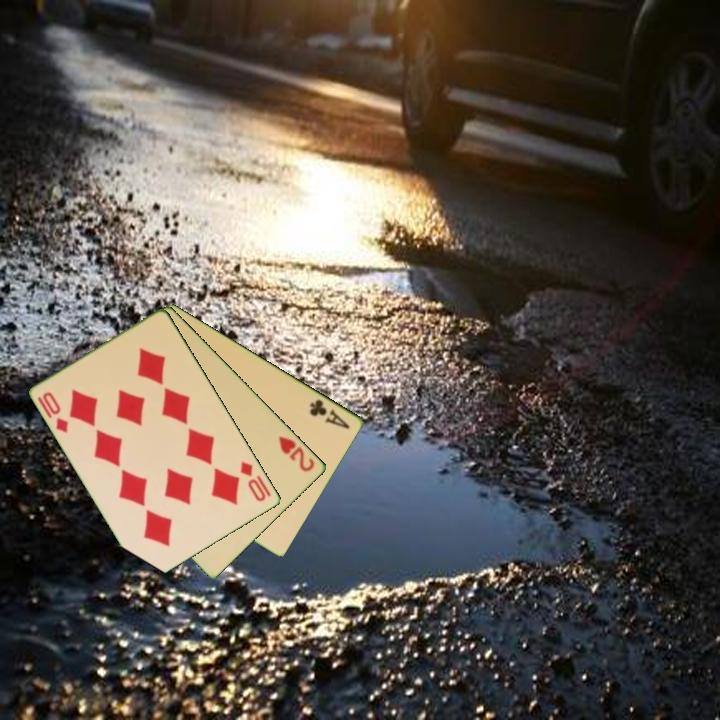10d: (237, 457, 274, 505), (39, 388, 72, 436)
2h: (275, 433, 318, 475)
Ac: (306, 395, 353, 432)
